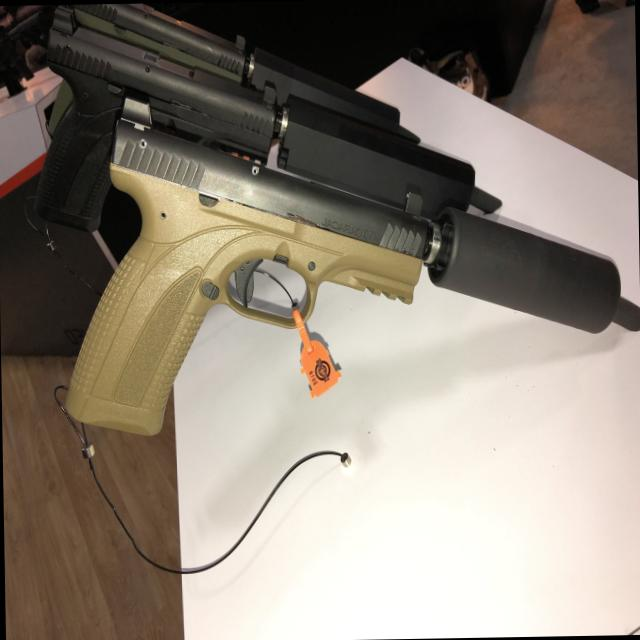Gun: (51, 84, 440, 451), (22, 1, 286, 238), (32, 1, 268, 137)
